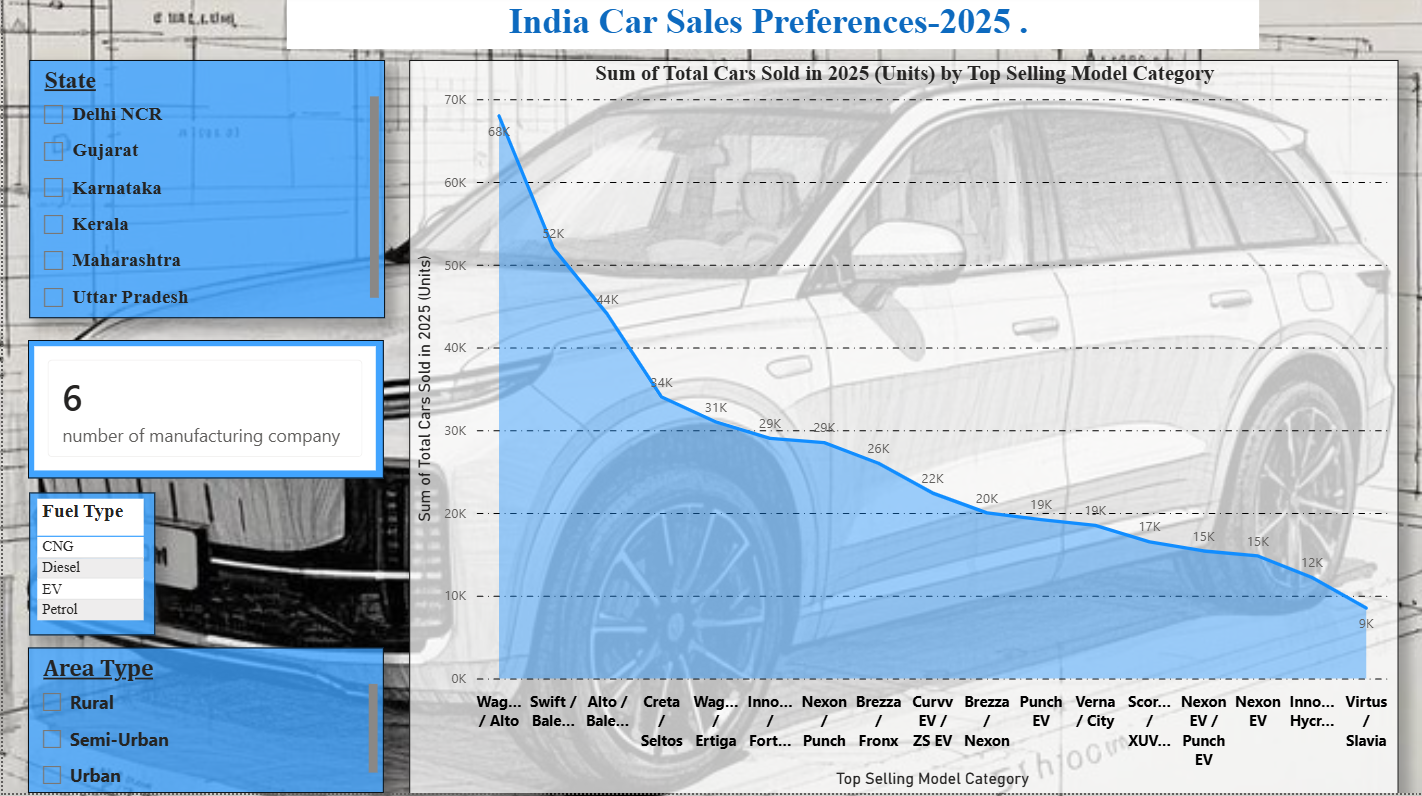

Layout of this report page (visuals, bound fields, positions):
{"tool":"powerbi","page":{"name":"Page 1","canvas":[1280,720],"ordinal":0},"visuals":[{"type":"slicer","fields":{"Values":["India Car Preferences 2025.State"]},"box":[23.3,58.1,220.9,232.6],"z":0},{"type":"cardVisual","fields":{"Data":["India Car Preferences 2025.number of manufacturing company"]},"box":[22.1,311.6,222.1,124.4],"z":1000},{"type":"tableEx","fields":{"Values":["India Car Preferences 2025.Fuel Type"]},"box":[23.3,453.5,114,111.6],"z":2000},{"type":"areaChart","fields":{"Category":["India Car Preferences 2025.Top Selling Model Category"],"Y":["Sum(India Car Preferences 2025.Total Cars Soldin 2025 (Units))"]},"box":[266.3,58.1,1014,661.6],"z":3000},{"type":"slicer","fields":{"Values":["India Car Preferences 2025.Area Type"]},"box":[22.1,577.9,222.1,141.9],"z":4000},{"type":"textbox","box":[34.9,0,1223.3,48.8],"z":5000}]}

Visuals, with their boxes in screenshot pixels (x1, y1, x2, y2), scaled from the page's 1280x720 canvas onto the 1422x796 screenshot:
slicer - India Car Preferences 2025.State: [x1=26, y1=64, x2=271, y2=321]
cardVisual - India Car Preferences 2025.number of manufacturing company: [x1=25, y1=344, x2=271, y2=482]
tableEx - India Car Preferences 2025.Fuel Type: [x1=26, y1=501, x2=153, y2=625]
areaChart - India Car Preferences 2025.Top Selling Model Category x Sum(India Car Preferences 2025.Total Cars Soldin 2025 (Units)): [x1=296, y1=64, x2=1421, y2=795]
slicer - India Car Preferences 2025.Area Type: [x1=25, y1=639, x2=271, y2=795]
textbox: [x1=39, y1=0, x2=1398, y2=54]
